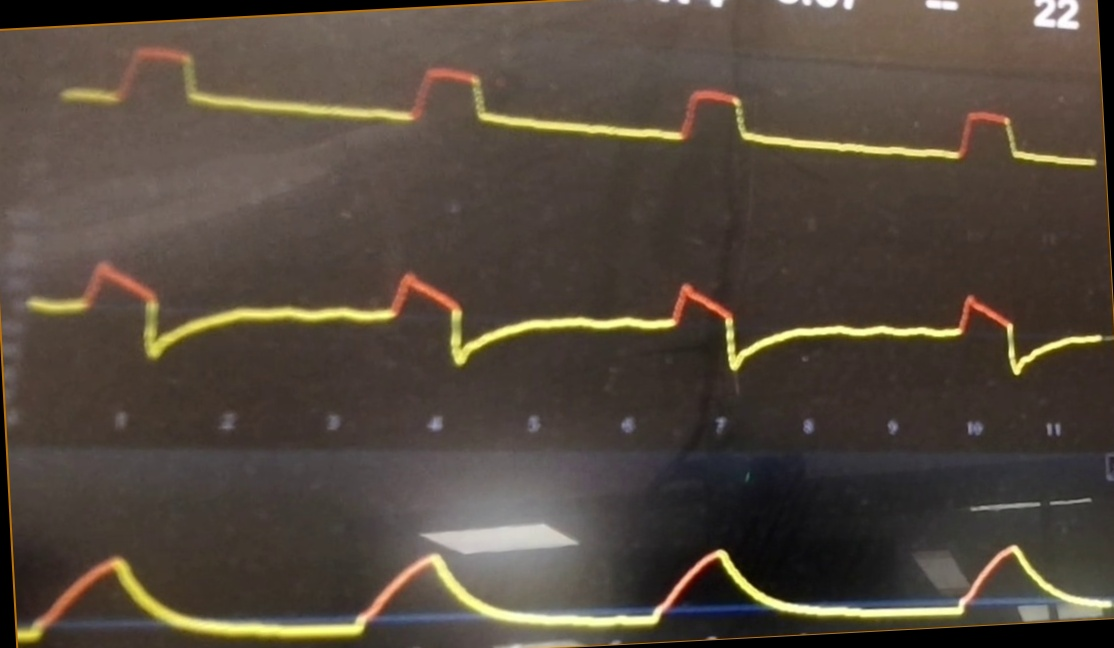Normal Flow: (31, 226, 1100, 393)
Normal Volume: (19, 528, 1112, 640)
